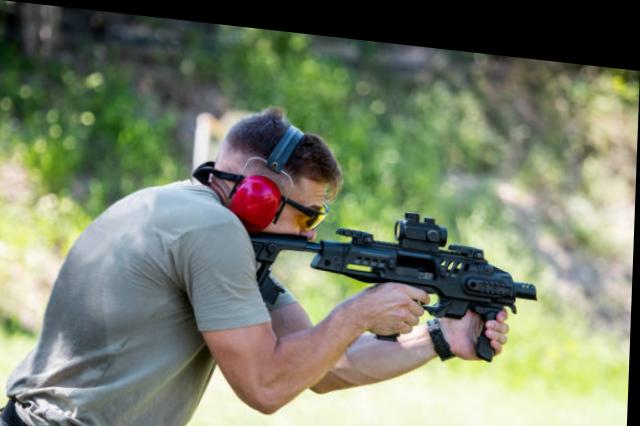other: (44, 104, 436, 417)
